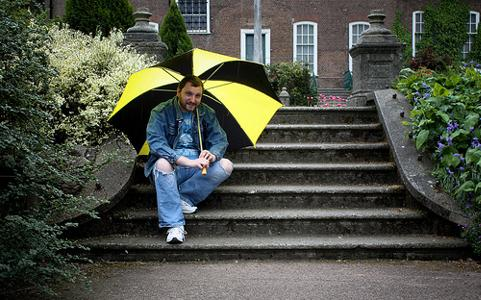person: (143, 75, 233, 243)
